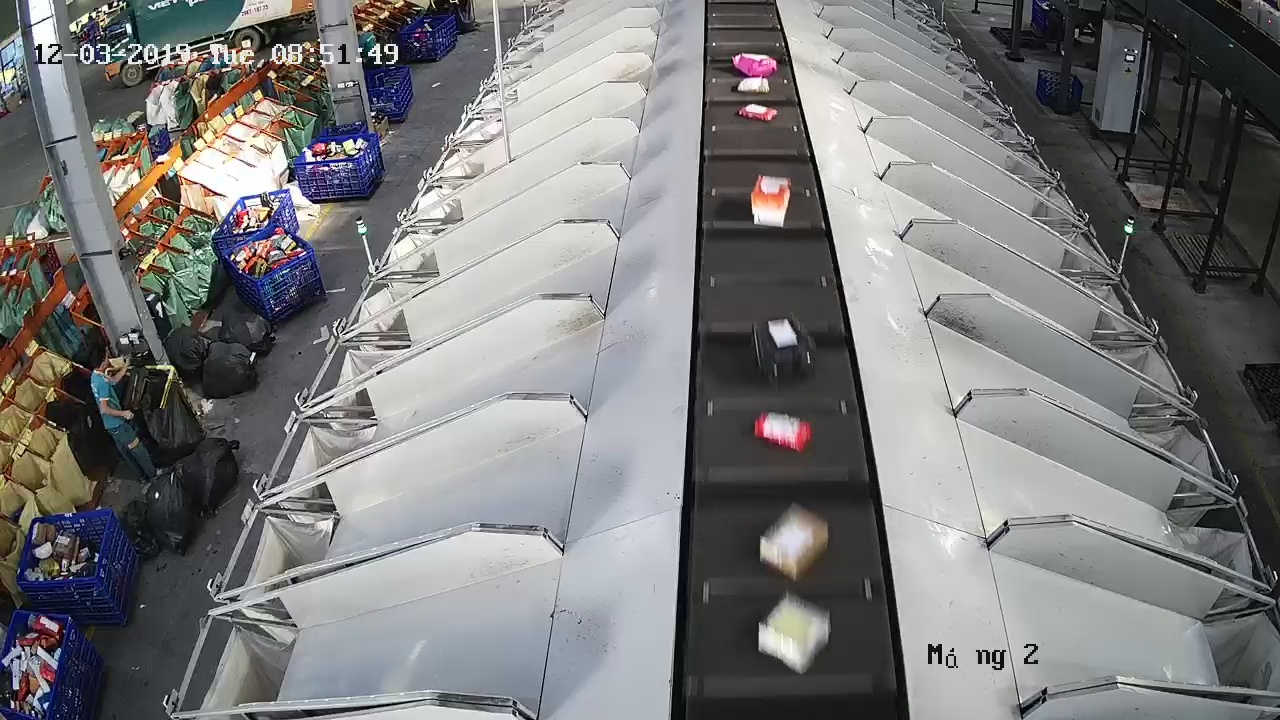parcel: (757, 590, 833, 676), (757, 499, 831, 584), (750, 311, 819, 388), (754, 408, 815, 455), (748, 172, 793, 230), (736, 101, 779, 123)
